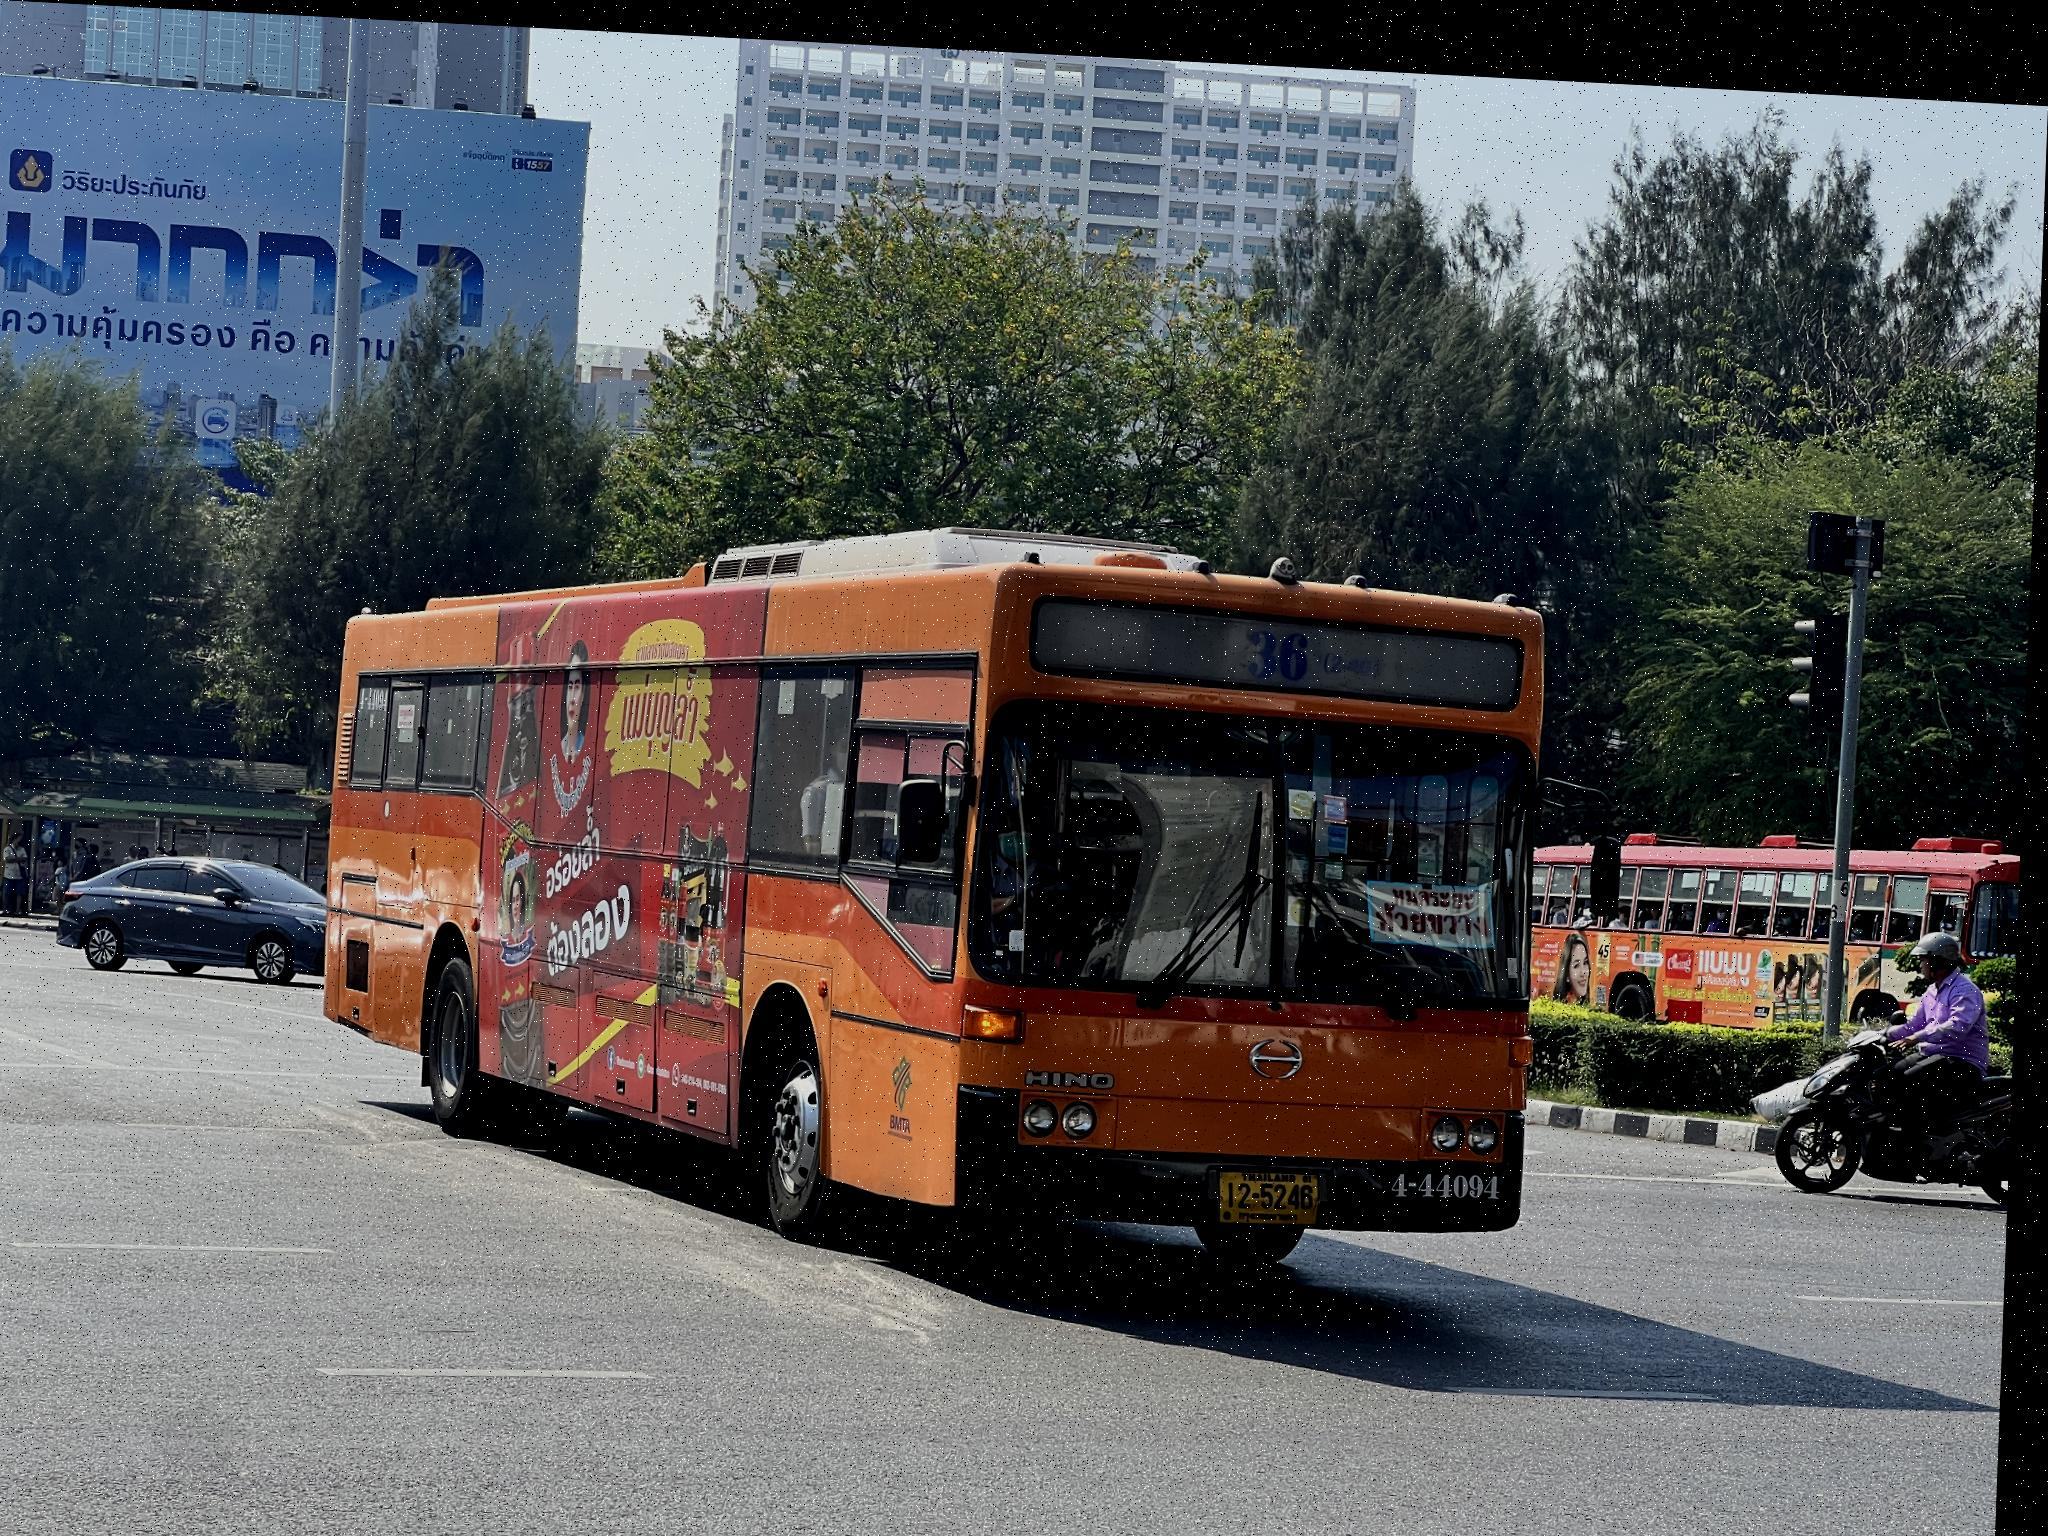BMTA-bus: (326, 523, 1558, 1260)
Bus Line Number: (1235, 608, 1395, 676)
Bus Side Number: (1388, 1147, 1516, 1191)
Destination Sign: (1369, 862, 1506, 936)
